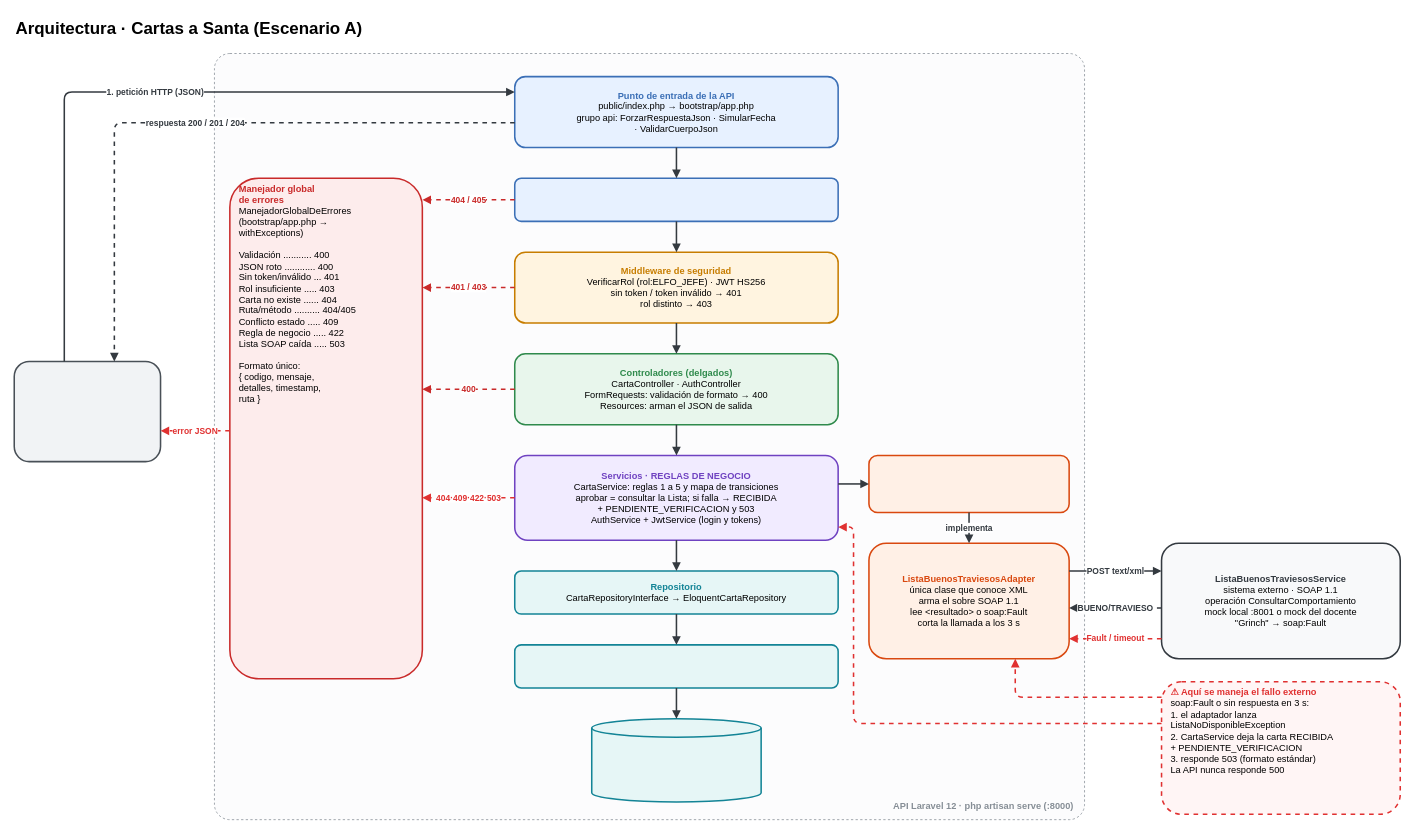
This 1414x833 diagram has some shape labels left out. Each missing label, with the centre of its shape:
Base de datos SQLite (por defecto) o MySQL tablas: cartas, users: the point at 676,760
Cliente Postman (colección) JSON + Authorization: Bearer: the point at 87,411
Modelos Eloquent Carta · User: the point at 676,666
Puerto (interfaz) ListaBuenosTraviesosInterface se consulta al aprobar (regla 4): the point at 969,483
Rutas · routes/api.php /api/auth/login · /api/cartas[/{id}[/estado]]: the point at 676,199
